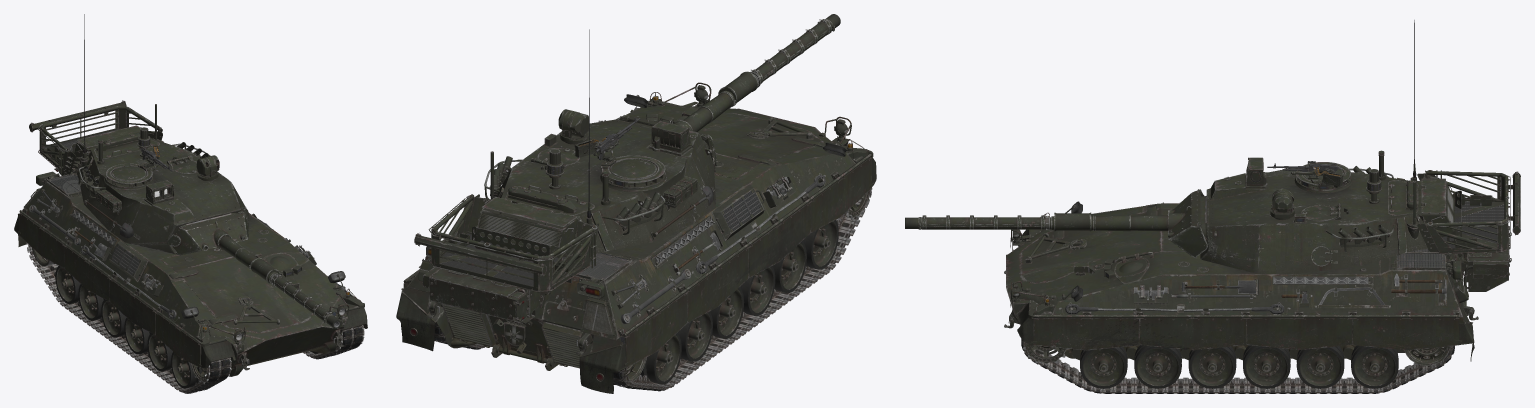
Rendered from tam_2c_war_thunder.glb.
3 renders of one model, left to right at view 1: azimuth 30°, elevation 25°; view 2: azimuth 150°, elevation 25°; view 3: azimuth 270°, elevation 25°, orthographic. The views are drawn at different scales.
Visible parts, largest first — view 1: Object_23, Object_18, Object_29, Object_12, Object_11, Object_24, Object_20, Object_8, Object_21, Object_26, Object_25, Object_28 (+7 smaller); view 2: Object_18, Object_23, Object_12, Object_20, Object_28, Object_13, Object_24, Object_29, Object_21, Object_19, Object_11, Object_8 (+8 smaller); view 3: Object_23, Object_18, Object_12, Object_29, Object_11, Object_20, Object_27, Object_10, Object_24, Object_13, Object_21, Object_28 (+5 smaller).
Boxes of the visible parts, bbox=[...] form: Object_23: bbox=[25, 175, 364, 376]; Object_18: bbox=[76, 104, 249, 253]; Object_29: bbox=[18, 172, 349, 350]; Object_12: bbox=[19, 213, 299, 367]; Object_11: bbox=[168, 211, 340, 328]; Object_24: bbox=[22, 171, 364, 363]; Object_20: bbox=[29, 100, 162, 174]; Object_8: bbox=[26, 242, 231, 393]; Object_21: bbox=[94, 132, 219, 214]; Object_26: bbox=[124, 318, 364, 388]; Object_25: bbox=[31, 247, 231, 383]; Object_28: bbox=[69, 172, 277, 323]; Object_18: bbox=[484, 119, 715, 255]; Object_23: bbox=[407, 86, 855, 358]; Object_12: bbox=[403, 107, 871, 367]; Object_20: bbox=[414, 194, 598, 292]; Object_28: bbox=[441, 119, 807, 368]; Object_13: bbox=[396, 157, 876, 393]; Object_24: bbox=[409, 89, 873, 370]; Object_29: bbox=[442, 82, 851, 381]; Object_21: bbox=[505, 109, 697, 215]; Object_19: bbox=[477, 186, 713, 253]; Object_11: bbox=[618, 14, 840, 171]; Object_8: bbox=[613, 162, 871, 391]; Object_23: bbox=[1006, 203, 1463, 388]; Object_18: bbox=[1200, 150, 1427, 273]; Object_12: bbox=[1033, 262, 1459, 350]; Object_29: bbox=[1010, 205, 1452, 307]; Object_11: bbox=[905, 189, 1207, 258]; Object_20: bbox=[1417, 170, 1520, 253]; Object_27: bbox=[1004, 201, 1478, 388]; Object_10: bbox=[1021, 317, 1454, 393]; Object_24: bbox=[1009, 212, 1474, 358]; Object_13: bbox=[1017, 226, 1511, 361]; Object_21: bbox=[1272, 168, 1423, 221]; Object_28: bbox=[1029, 202, 1466, 360].
Bounding box in the file's own units: 3.22 × 5.02 × 8.85.
Materials: 19 (19 with a texture image).
